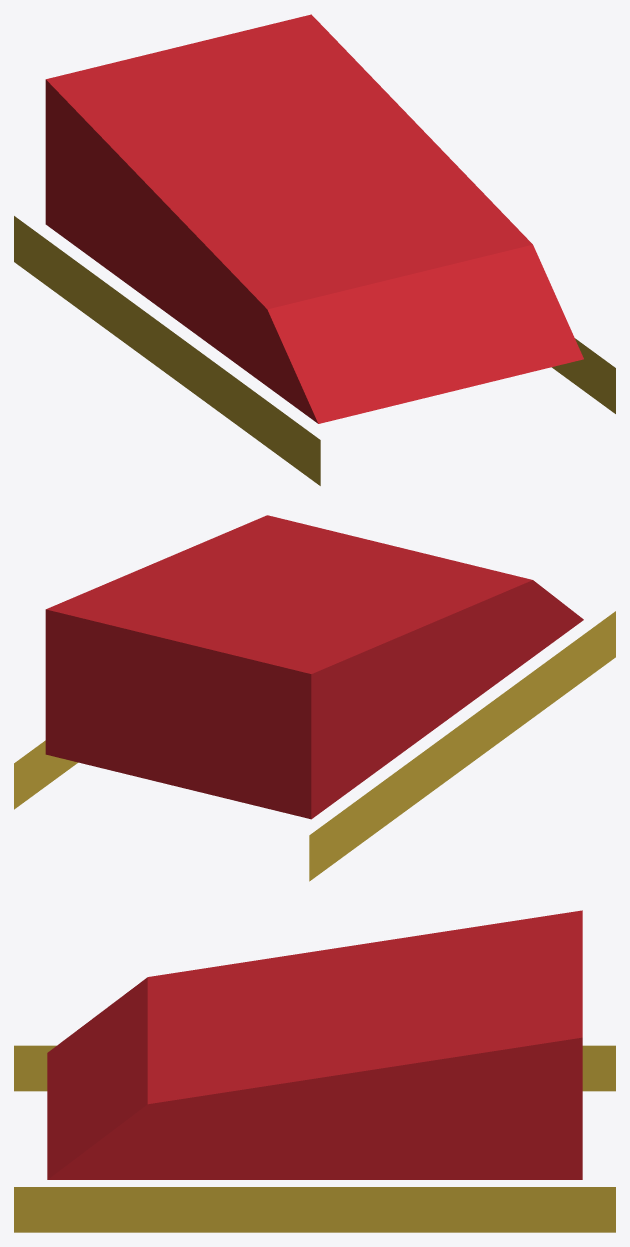
Rendered from sleigh.obj.
3 views of the same model, one above another, from view 1: azimuth 30°, elevation 25°; view 2: azimuth 150°, elevation 25°; view 3: azimuth 270°, elevation 25° (orthographic).
Size of the model in its own units: 1 by 0.62 by 1.8.
